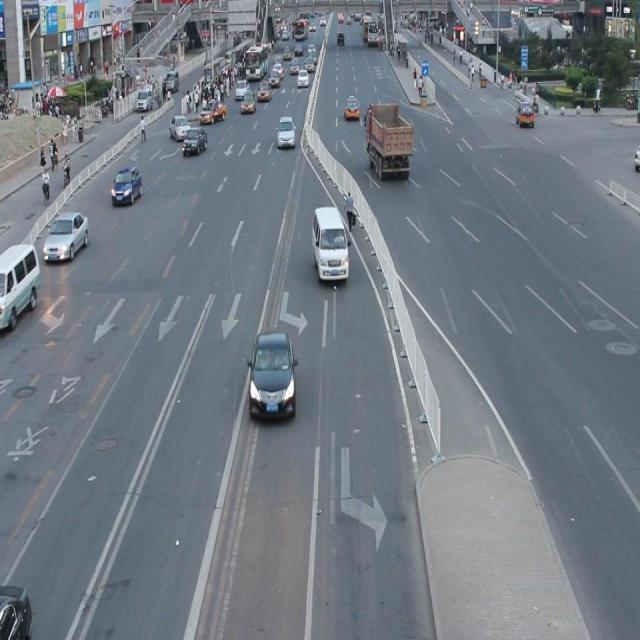bus: (365, 101, 412, 182)
car: (248, 330, 295, 423), (43, 210, 90, 261), (0, 580, 34, 640), (112, 166, 142, 204)
truck: (0, 241, 40, 329), (311, 203, 348, 280)
